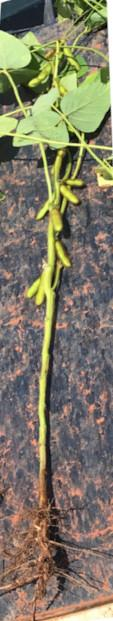soja: (52, 239, 82, 268), (59, 44, 88, 72), (48, 149, 71, 179), (34, 193, 58, 221), (57, 183, 83, 207), (28, 65, 55, 87), (23, 275, 43, 298), (48, 208, 65, 235), (36, 279, 50, 307), (63, 175, 89, 190), (58, 86, 70, 98)
